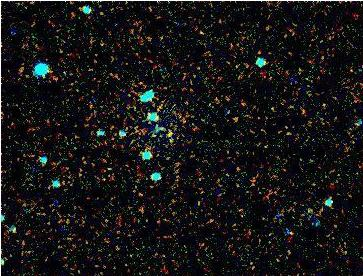star: (151, 120, 181, 150)
